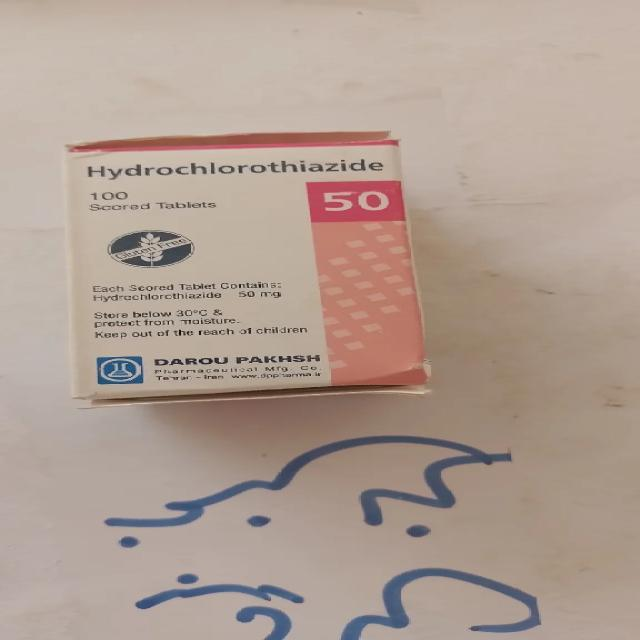drug-name: (87, 157, 388, 180)
